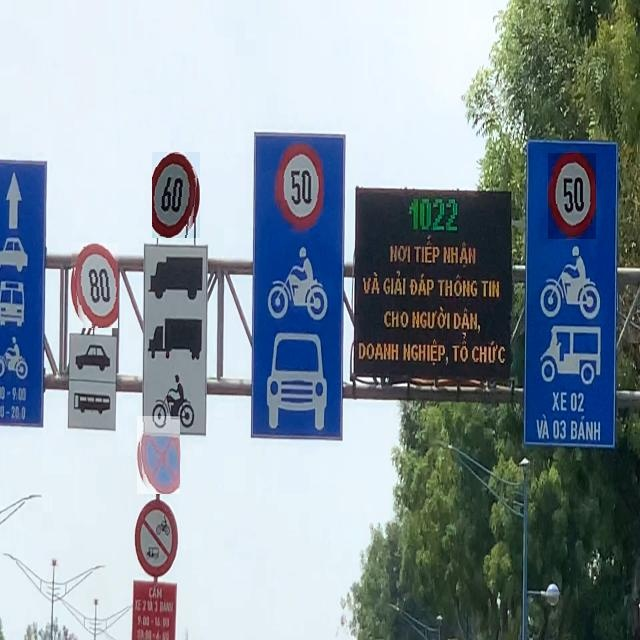bien_chi_dan: (548, 153, 596, 239), (275, 144, 323, 230), (152, 152, 200, 238), (71, 243, 118, 329), (137, 416, 180, 494)
